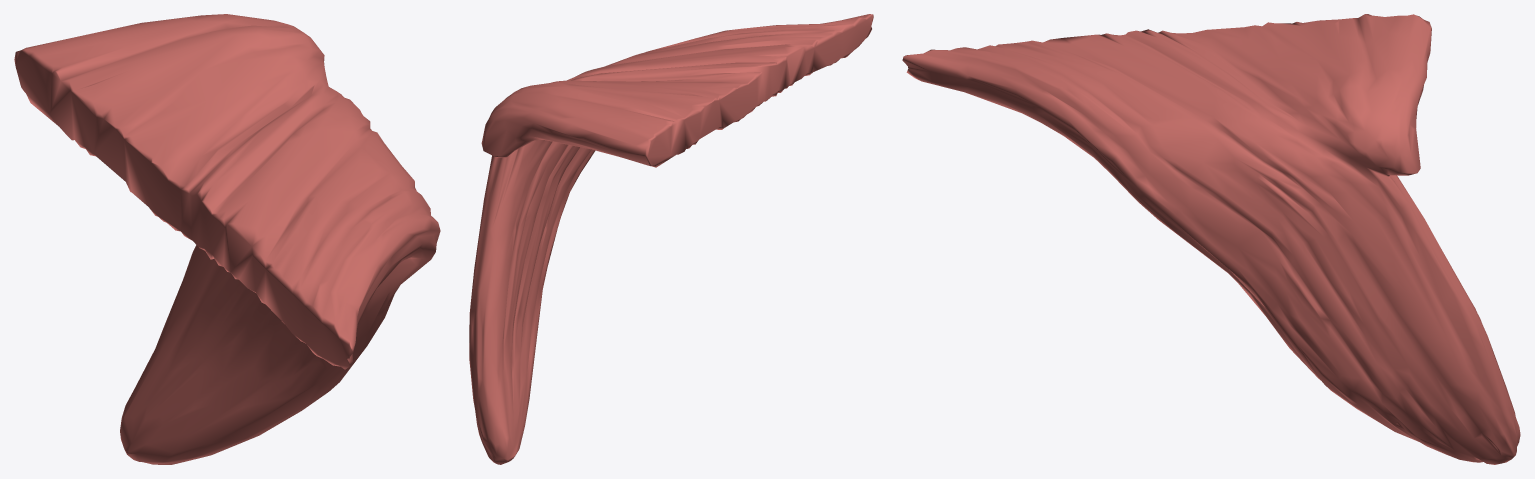
3 renders of one model, left to right at view 1: azimuth 30°, elevation 25°; view 2: azimuth 150°, elevation 25°; view 3: azimuth 270°, elevation 25°, orthographic. The views are drawn at different scales.
Visible parts, largest first — view 1: 左侧咽中缩肌; view 2: 左侧咽中缩肌; view 3: 左侧咽中缩肌.
Boxes of the visible parts, <box> form: 左侧咽中缩肌: <box>14,14,440,464</box>; 左侧咽中缩肌: <box>469,14,873,464</box>; 左侧咽中缩肌: <box>902,14,1520,464</box>.
Bounding box in the file's own units: 0.0277 × 0.0465 × 0.0674.
